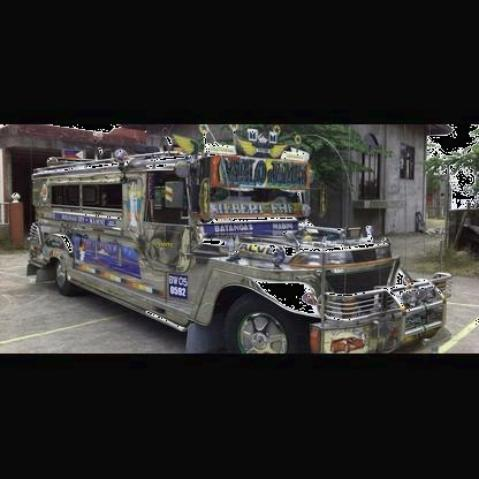jeepney: (8, 134, 445, 350)
